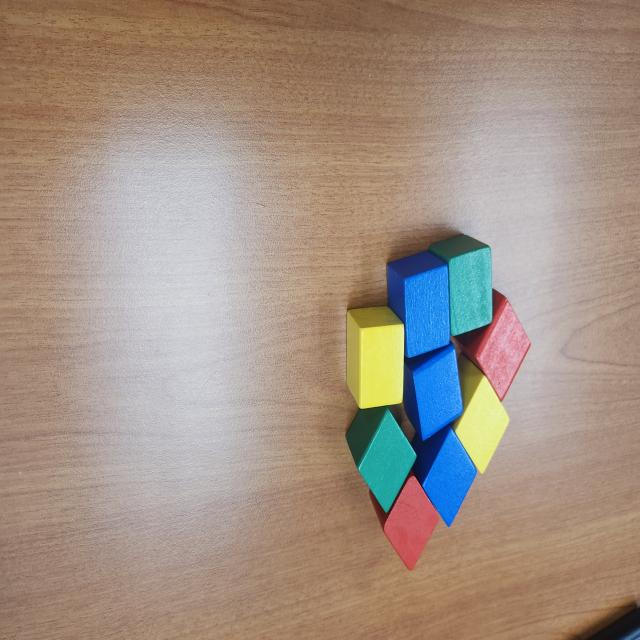blue: (410, 423, 478, 528), (386, 252, 450, 359), (403, 339, 464, 442)
green: (345, 405, 417, 514), (427, 234, 493, 339)
red: (454, 286, 531, 402), (369, 468, 439, 571)
yellow: (450, 353, 510, 475), (346, 305, 405, 408)
